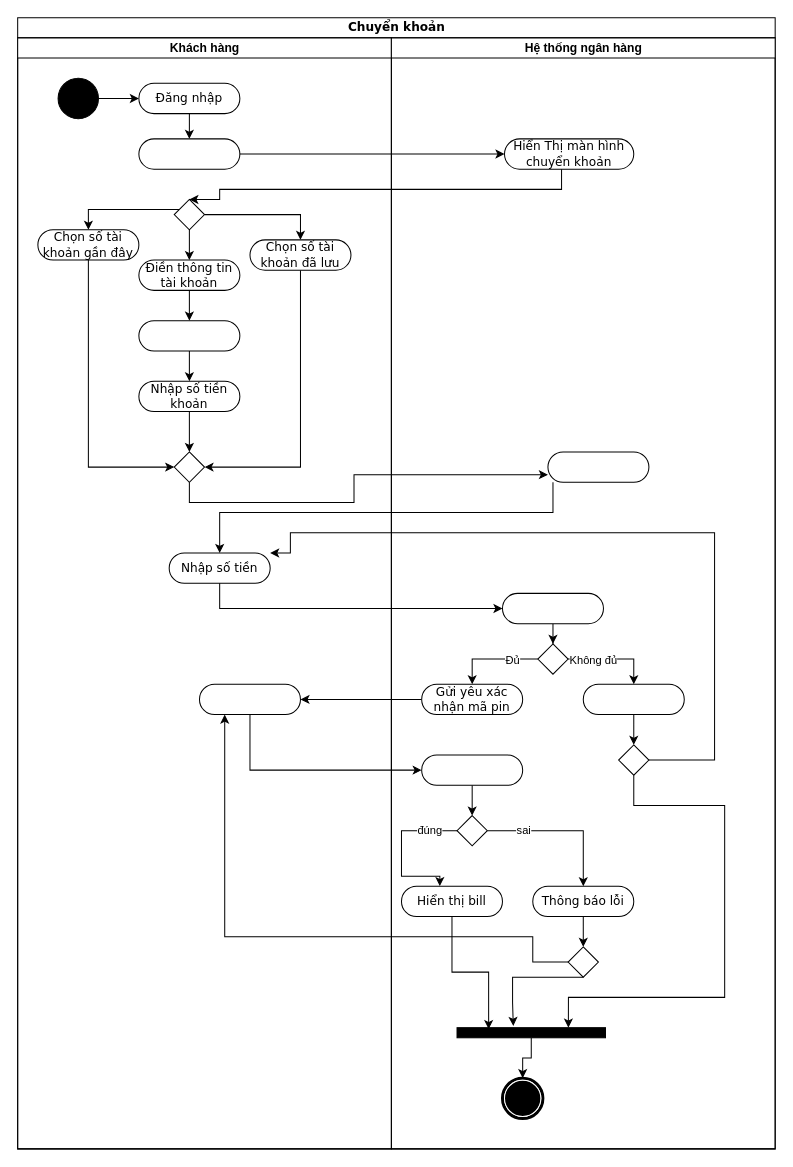
Some shapes in this 793 by 1167 pixel diagram are drawn without their labels. The shapes that lost their labels are listed below. From the top down, each one's centre as x and y in pixels, then its label:
At (x=189, y=153): "Chọn chuyển tiền".
At (x=189, y=335): "Chọn ngân hàng".
At (x=598, y=466): "Xác nhận tài khoản".
At (x=552, y=608): "Kiểm tra số dư".
At (x=249, y=699): "Nhập mã pin".
At (x=633, y=699): "Thông báo số dư không đủ".
At (x=472, y=769): "Xác nhận mã pin".
